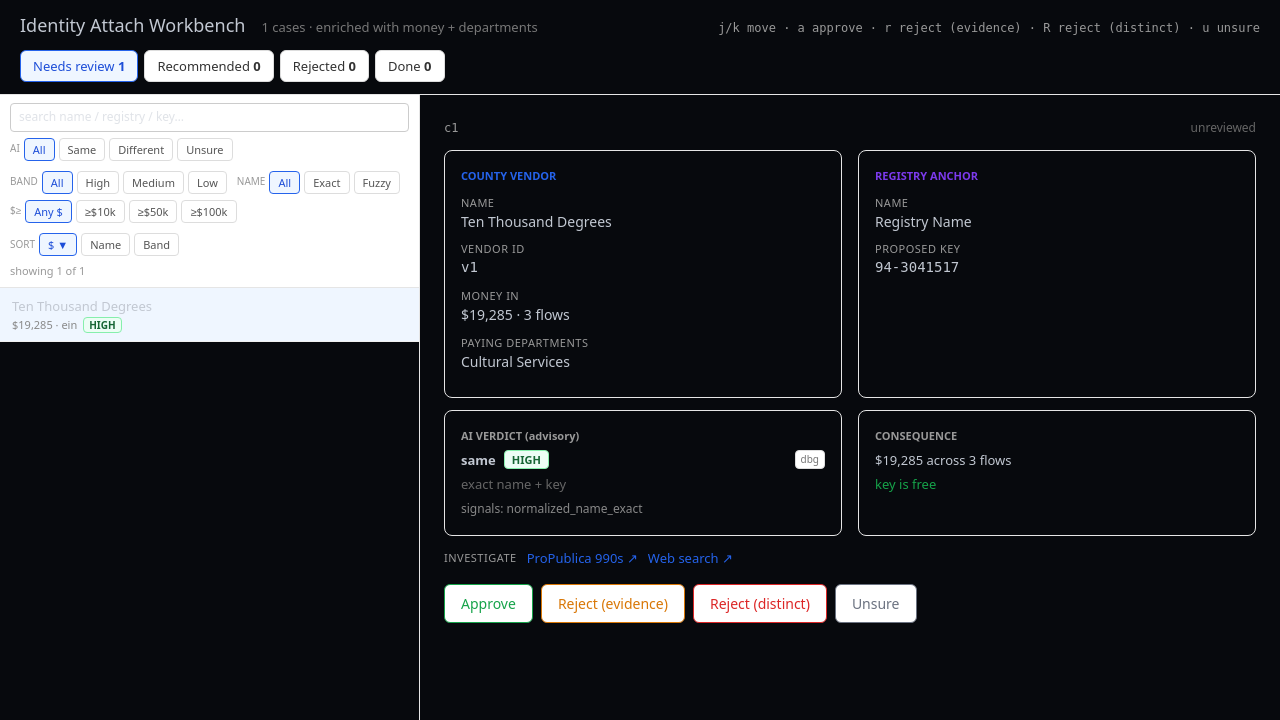
Test case: Bench › does not render the raw signal-strength float by default, only behind dbg
Expected: the text "0.97" is not shown
Click the button "dbg" at (810, 460), box [794,450,825,470]
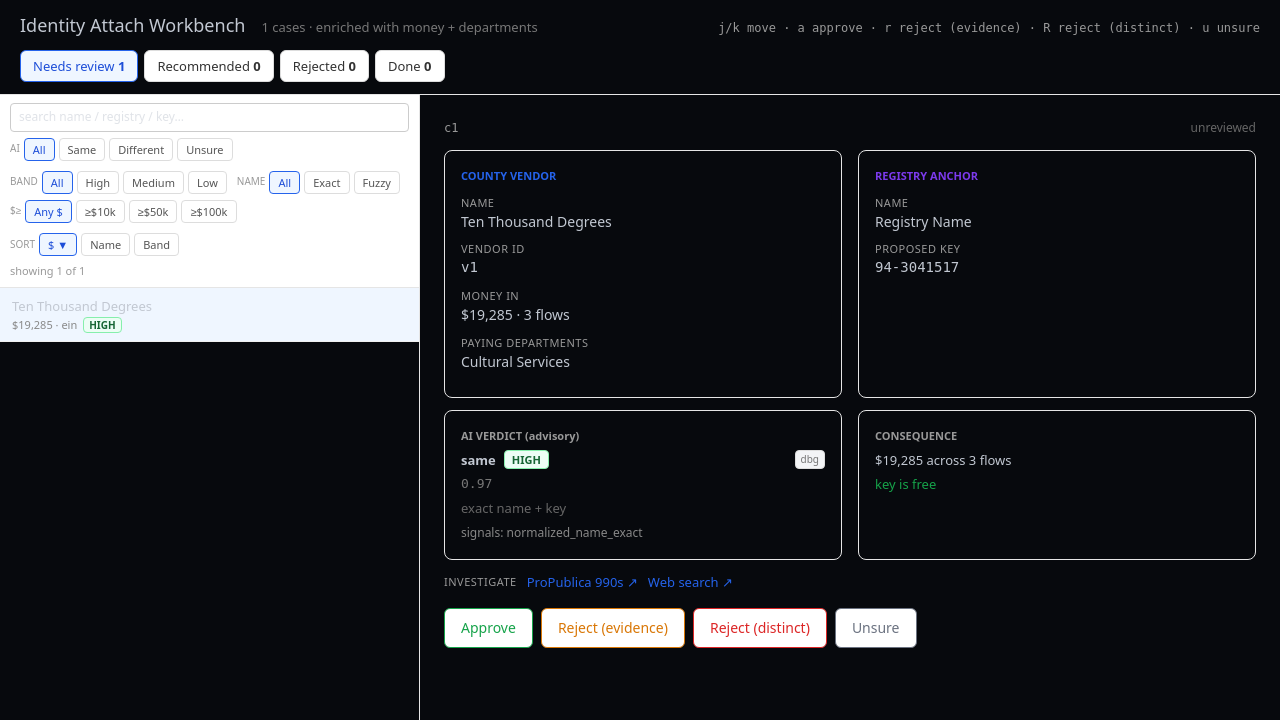
Now the text "0.97" is shown, box [461,476,492,491]
